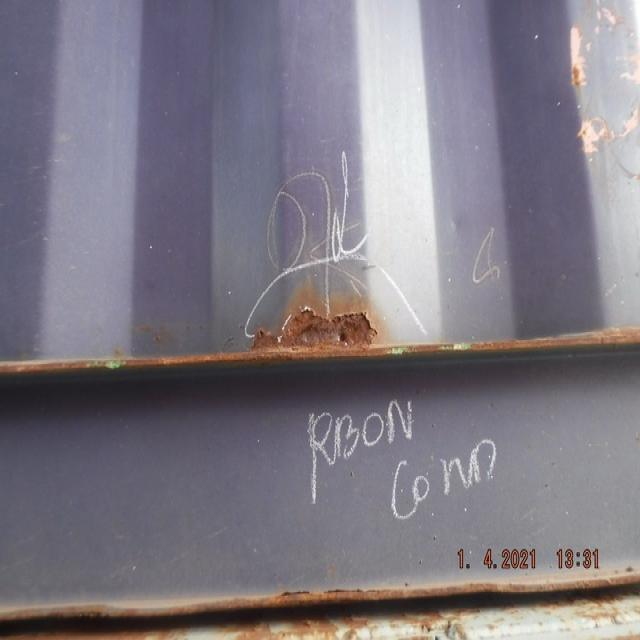rust: (250, 310, 378, 353)
